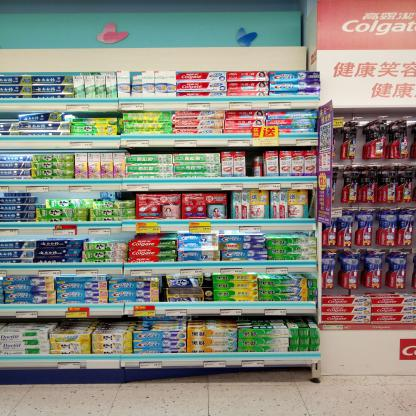Void: (45, 193, 96, 199), (0, 112, 19, 124), (78, 113, 120, 118), (247, 151, 254, 175), (126, 193, 133, 199)
